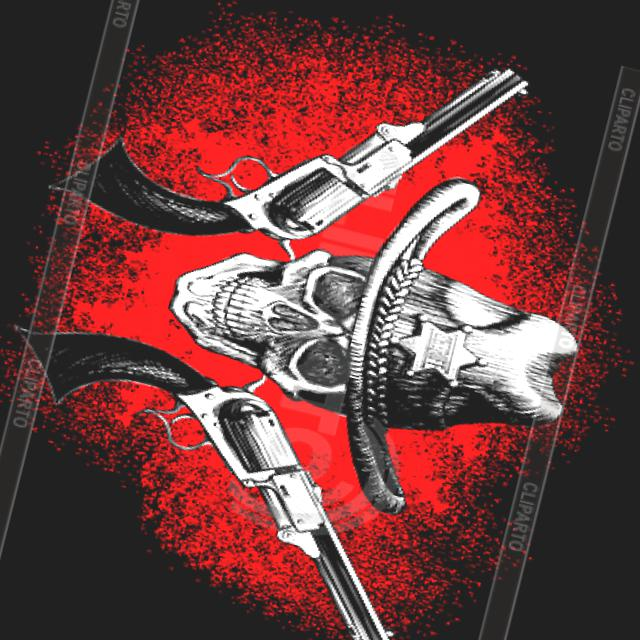handgun: (0, 310, 450, 639), (64, 0, 536, 307)
